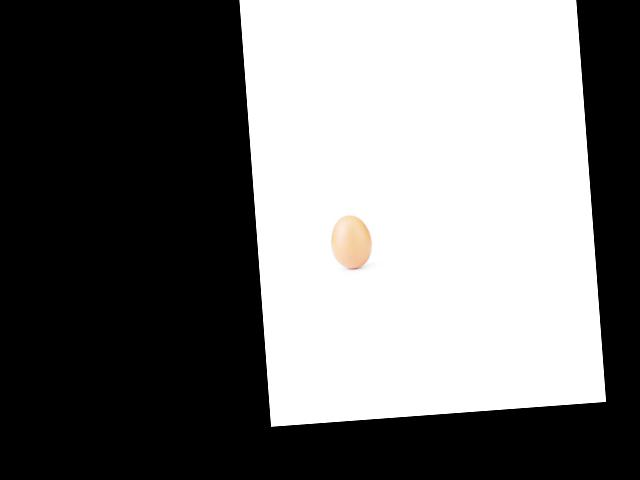egg: (329, 214, 373, 269)
